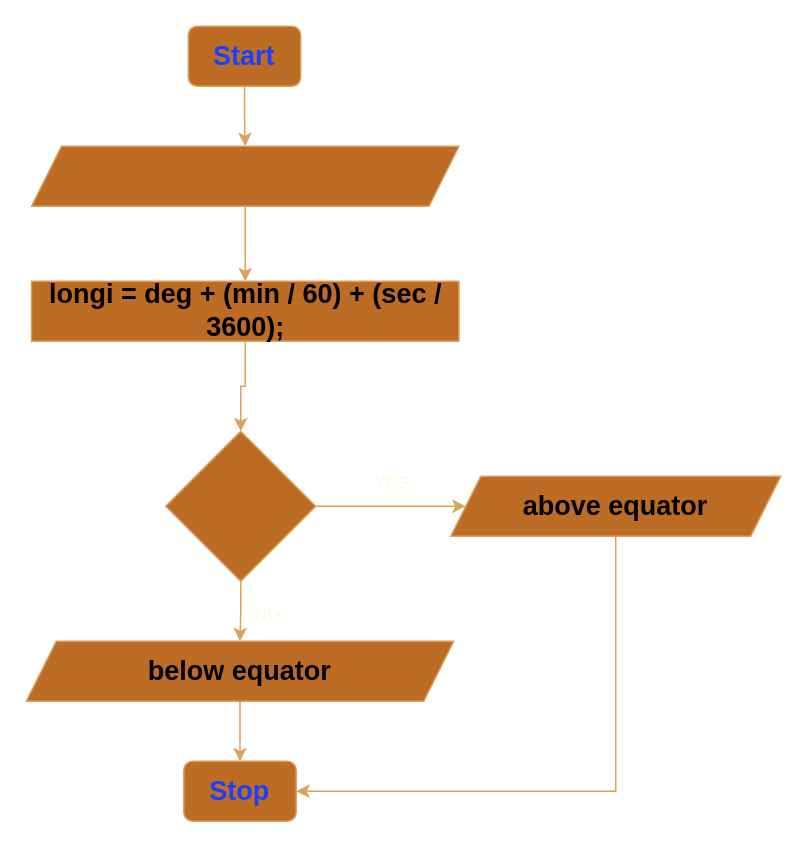
This 807x848 diagram has some shape labels left out. Here are the shapes that lost their labels. From the top down, the box of each, then its label:
(30, 145, 459, 206): Input lati, longi
(164, 430, 316, 581): if lat>0
